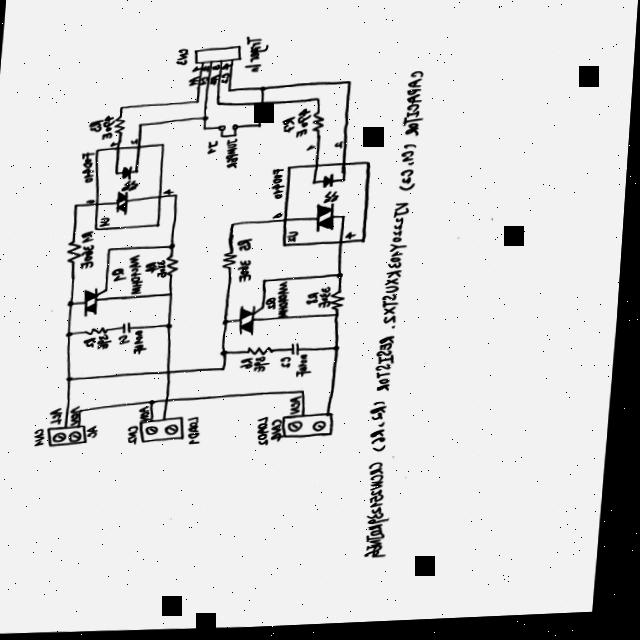capacitor: (124, 321, 137, 334), (294, 344, 306, 358)
crossover: (170, 370, 177, 376), (260, 102, 267, 107), (169, 399, 173, 404)
junction: (70, 300, 79, 307), (153, 399, 162, 406), (169, 323, 177, 330), (224, 351, 233, 357), (336, 347, 345, 353), (339, 274, 348, 280), (171, 244, 179, 250), (260, 87, 268, 93), (108, 246, 116, 252), (70, 331, 77, 337), (226, 320, 233, 326), (74, 203, 82, 208), (203, 116, 210, 121), (224, 368, 231, 373), (70, 376, 77, 381), (232, 223, 239, 228), (171, 292, 178, 297), (304, 391, 312, 395), (258, 124, 264, 129), (347, 82, 353, 87), (316, 99, 322, 104), (139, 122, 145, 127), (265, 280, 271, 285), (227, 89, 234, 93), (217, 102, 222, 107), (338, 315, 343, 320), (120, 106, 126, 110), (195, 101, 201, 105), (204, 127, 209, 131)
resistor: (68, 239, 87, 264), (334, 291, 349, 313), (224, 252, 242, 270), (167, 256, 183, 276), (312, 114, 327, 135), (250, 347, 280, 357), (115, 116, 128, 136), (88, 327, 114, 336)
switch: (218, 125, 242, 139)
terminal: (287, 414, 339, 440), (144, 416, 191, 443), (52, 425, 95, 447)
text: (361, 69, 432, 564), (244, 36, 270, 74), (130, 255, 148, 296), (83, 236, 99, 270), (225, 138, 242, 170), (475, 521, 497, 545), (260, 417, 277, 448), (296, 110, 313, 140), (191, 417, 208, 446), (281, 282, 294, 319), (82, 152, 97, 183), (273, 170, 287, 201), (300, 356, 317, 379), (136, 329, 151, 355), (240, 260, 256, 283), (276, 421, 291, 443), (103, 115, 116, 140), (53, 406, 70, 425), (293, 397, 308, 417), (322, 288, 335, 309), (258, 358, 275, 374), (283, 118, 298, 135), (131, 426, 145, 444), (101, 334, 117, 349), (85, 231, 97, 251), (176, 49, 190, 66), (239, 239, 256, 253), (38, 428, 51, 446), (74, 405, 85, 426), (114, 267, 129, 282), (309, 293, 324, 307), (160, 260, 171, 279), (143, 406, 156, 422), (90, 119, 105, 132), (92, 425, 104, 438), (269, 298, 281, 311), (209, 141, 220, 155), (149, 262, 161, 274), (122, 334, 135, 345), (245, 359, 258, 370), (87, 337, 101, 347), (284, 358, 296, 369), (290, 233, 302, 244), (189, 76, 200, 87), (102, 217, 114, 227), (210, 75, 220, 86), (348, 234, 360, 242), (221, 74, 230, 84), (275, 213, 286, 221), (201, 77, 209, 86), (165, 189, 175, 196), (335, 143, 344, 150), (88, 198, 98, 204), (192, 67, 202, 73), (132, 138, 140, 145), (222, 64, 230, 71), (111, 141, 120, 147), (308, 147, 318, 152), (203, 67, 211, 73), (213, 65, 221, 71)
